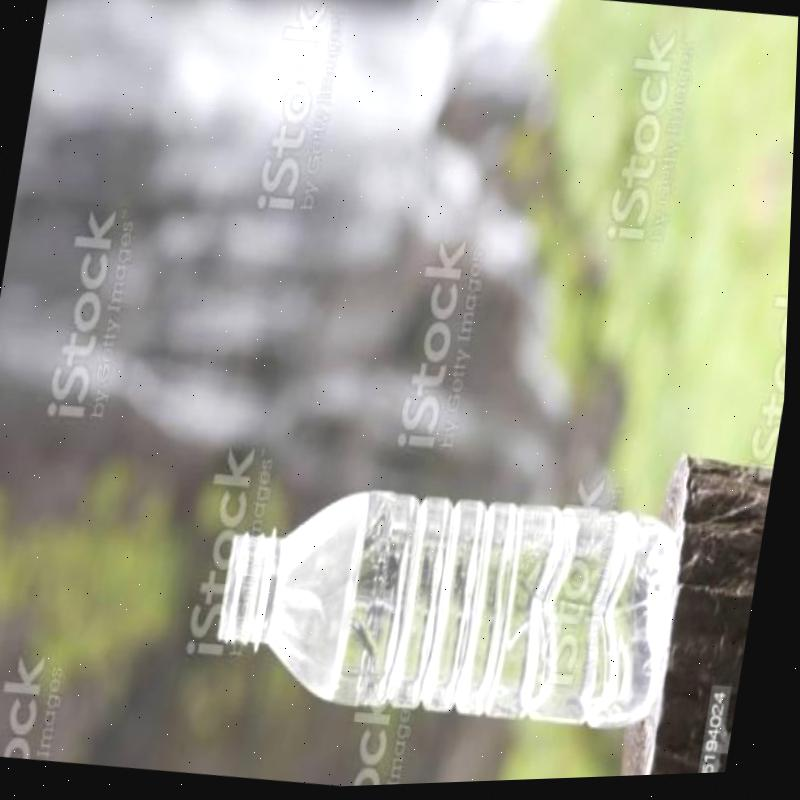botella: (209, 463, 691, 754)
